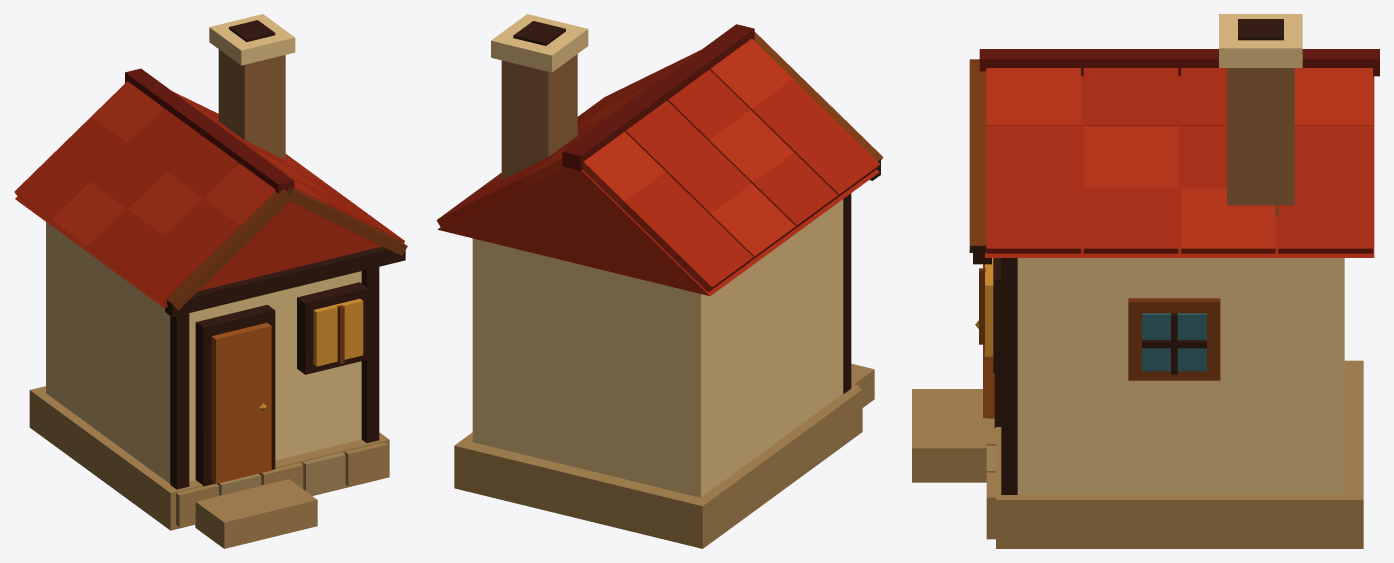
The model's file is house.obj.
3 renders of one model, left to right at view 1: azimuth 30°, elevation 25°; view 2: azimuth 150°, elevation 25°; view 3: azimuth 270°, elevation 25°, orthographic. The views are drawn at different scales.
Visible parts, largest first — view 1: house; view 2: house; view 3: house.
Boxes of the visible parts, <box> form: house: <box>14,14,407,548</box>; house: <box>436,14,883,548</box>; house: <box>912,14,1379,548</box>.
Size of the model in its own units: 1.35 by 2.03 by 1.73.
1 material, 1 textured.
